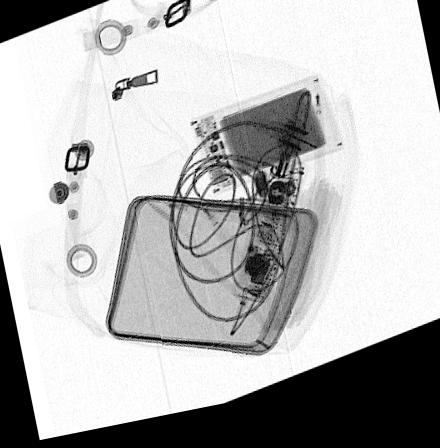Powerbank: (186, 86, 343, 207)
